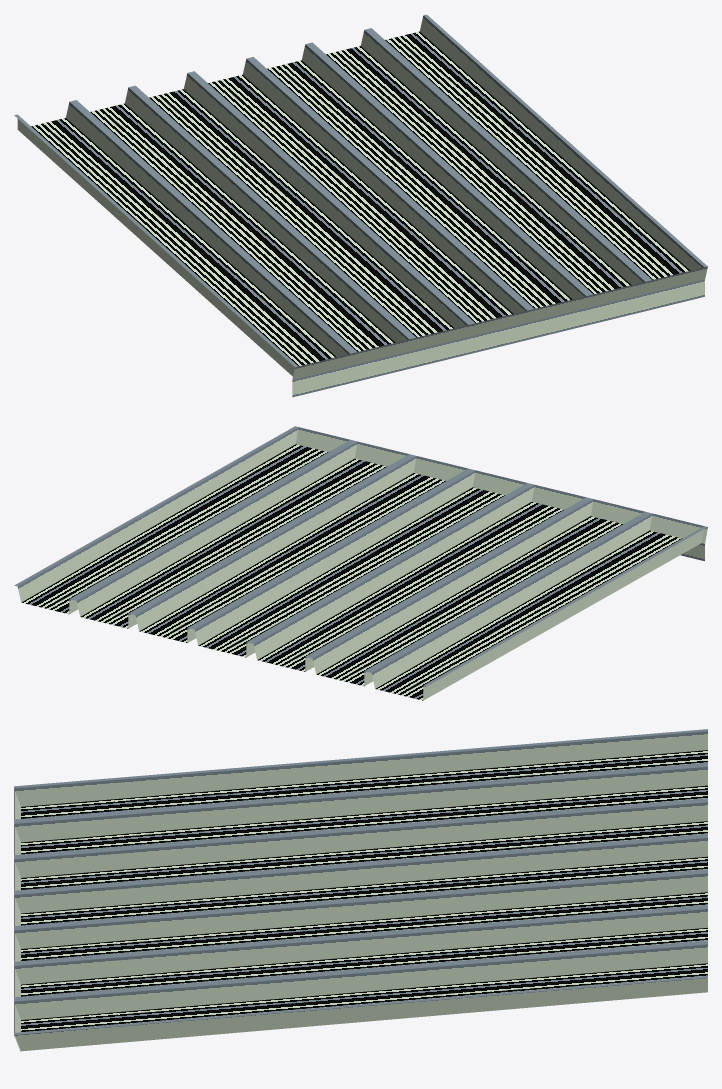
Rendered from Cooler_Rack.glb.
3 views of the same model, one above another, from view 1: azimuth 30°, elevation 25°; view 2: azimuth 150°, elevation 25°; view 3: azimuth 270°, elevation 25° (orthographic). The views are drawn at different scales.
Visible parts, largest first — view 1: Cooler_Rack; view 2: Cooler_Rack; view 3: Cooler_Rack.
Boxes of the visible parts, x1,y1,x2,y2 form: Cooler_Rack: (14,14,707,397); Cooler_Rack: (14,426,707,700); Cooler_Rack: (14,729,707,1052).
Size of the model in its own units: 0.7909 by 0.1439 by 0.9325.
1 material, 1 textured.
